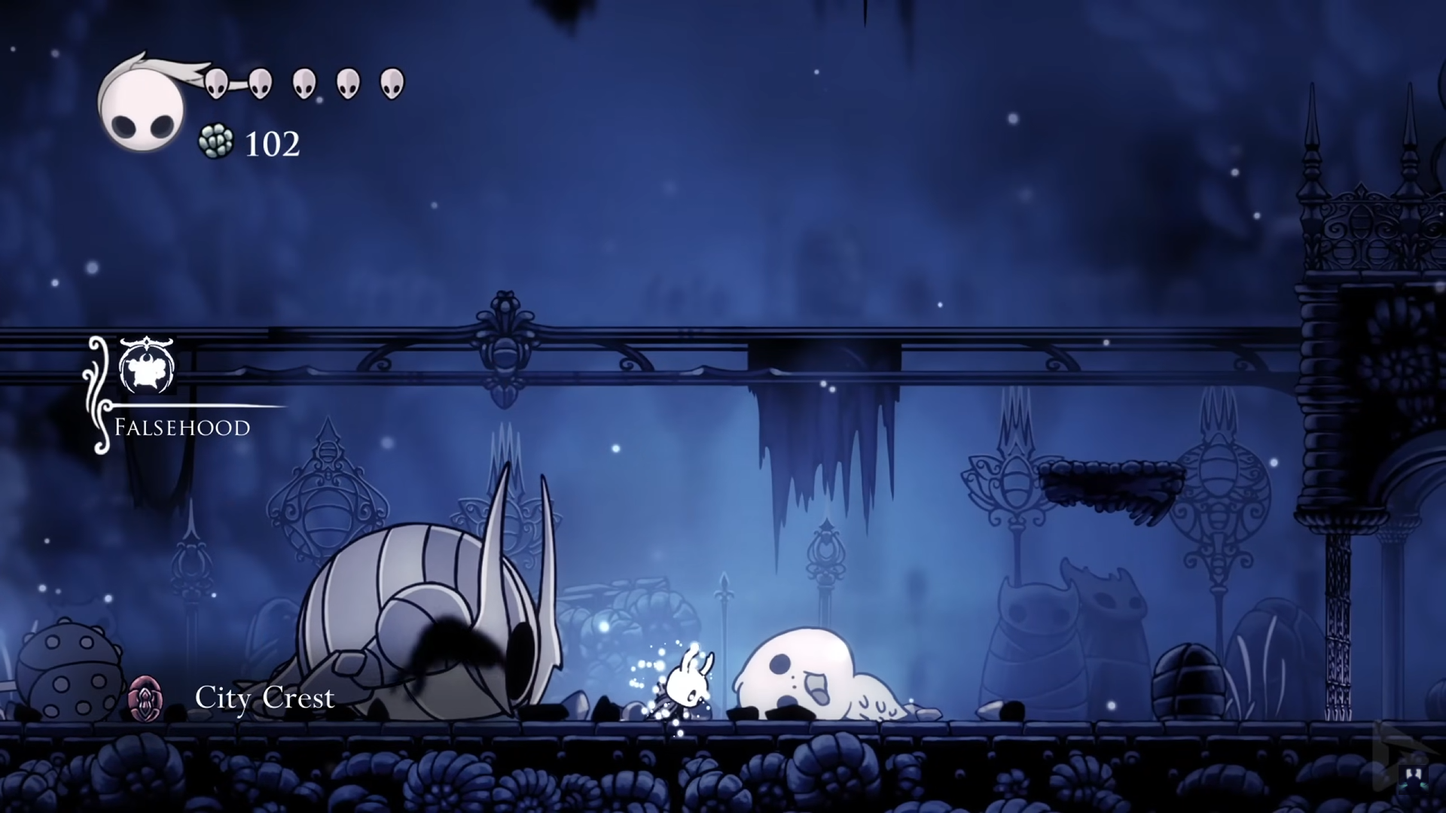HK: (656, 642, 714, 726)
